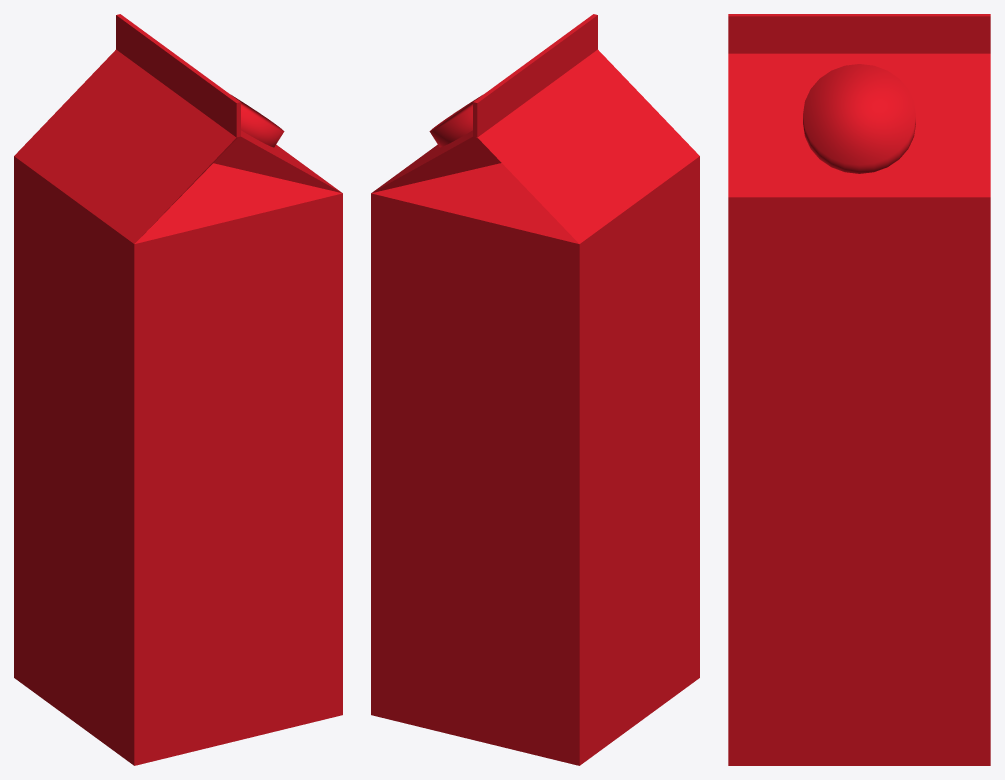
The model's file is CartoneLatteIntero_1L.fbx.
The picture shows the model from 3 angles, left to right: view 1: azimuth 30°, elevation 25°; view 2: azimuth 150°, elevation 25°; view 3: azimuth 270°, elevation 25°; orthographic projection. The views are drawn at different scales.
Visible parts, largest first — view 1: CartoneLatte.002; view 2: CartoneLatte.002; view 3: CartoneLatte.002.
Part boxes in pixels (<box>): CartoneLatte.002: <box>14,14,342,765</box>; CartoneLatte.002: <box>371,14,699,765</box>; CartoneLatte.002: <box>728,14,990,765</box>.
Bounding box in the file's own units: 414 × 1211 × 414.
